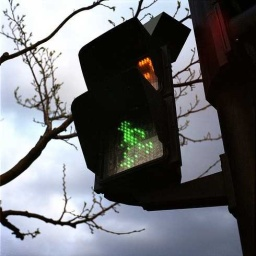traffic light: (70, 16, 182, 196)
